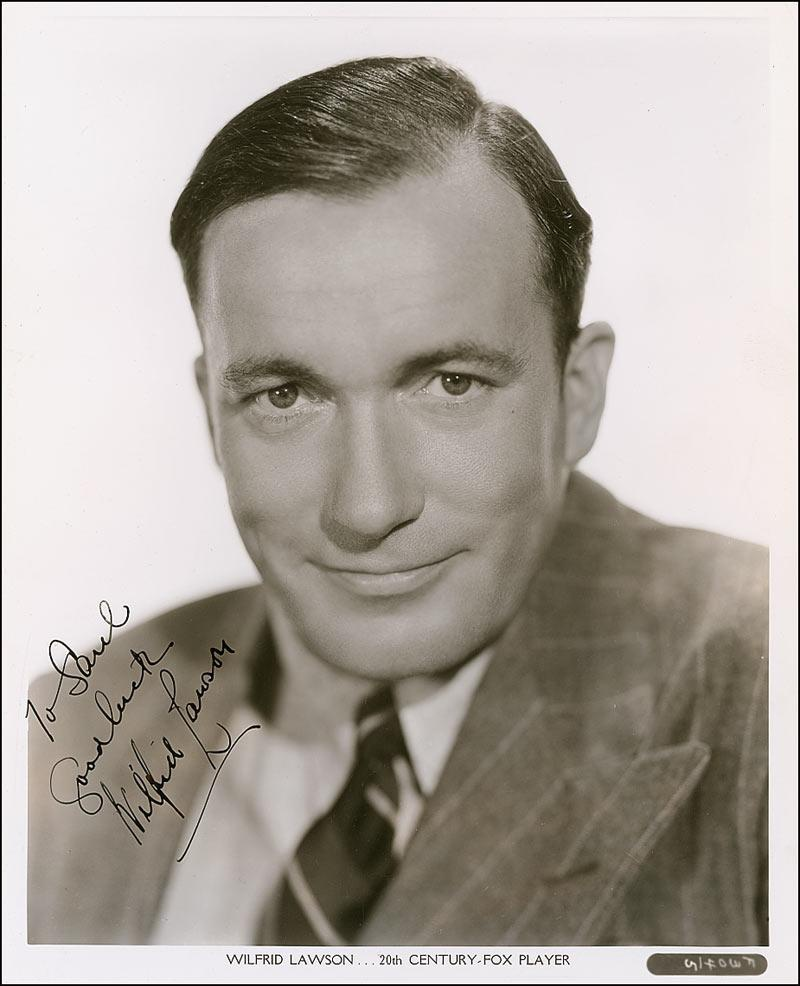bad: (161, 290, 546, 675)
